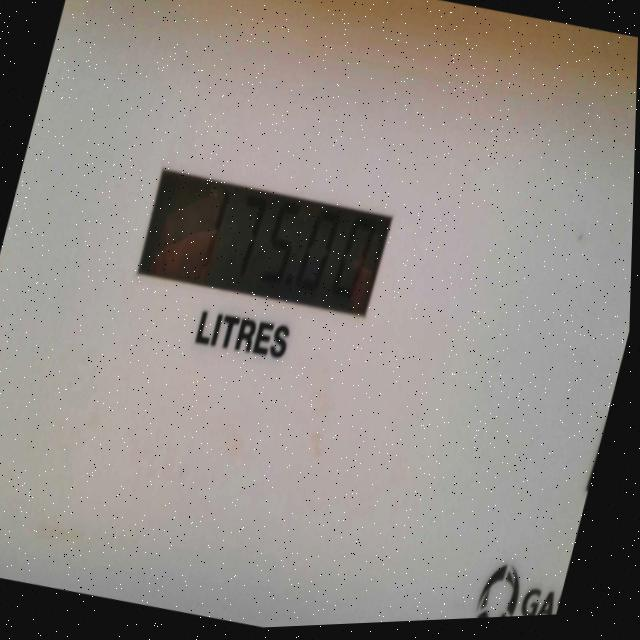.: (286, 279, 300, 299)
0: (295, 212, 344, 303), (331, 220, 377, 311)
1: (193, 185, 240, 278), (237, 202, 273, 280)
5: (258, 198, 306, 296)
